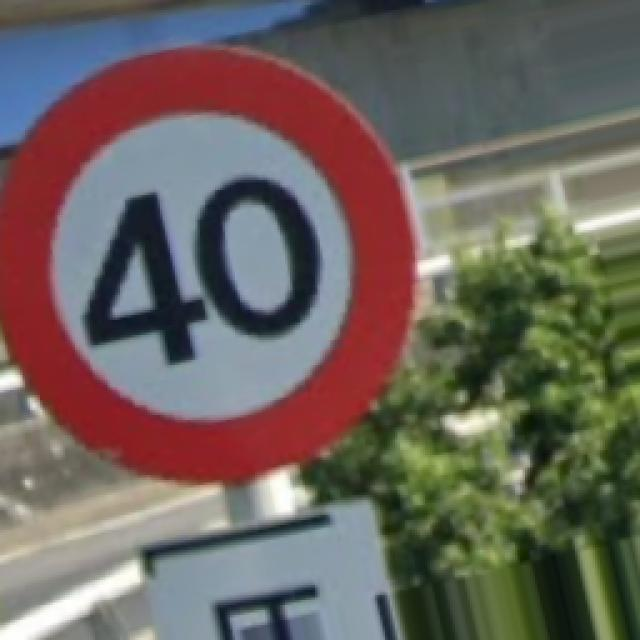Speed Limit -40-: (0, 45, 412, 480)
